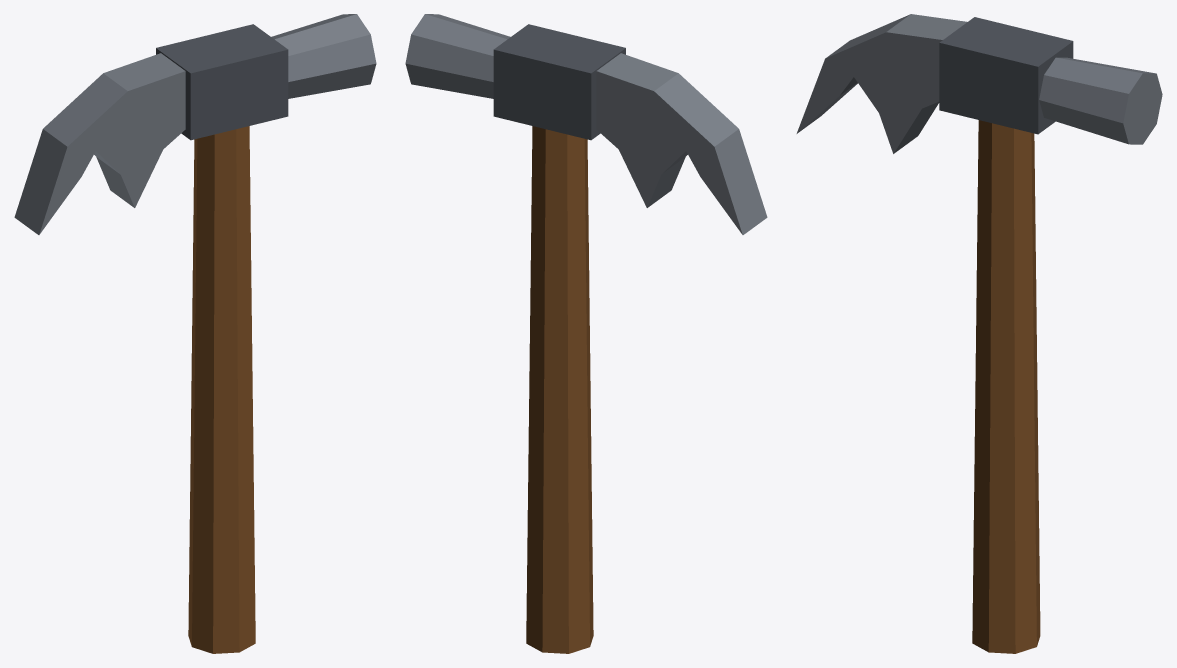
Rendered from hammer-fa3e51.glb.
3 renders of one model, left to right at view 1: azimuth 30°, elevation 25°; view 2: azimuth 150°, elevation 25°; view 3: azimuth 330°, elevation 25°, orthographic.
Visible parts, largest first — view 1: claw-hammer; view 2: claw-hammer; view 3: claw-hammer.
Boxes of the visible parts, left/top/right/bottom form: claw-hammer: left=14, top=14, right=376, bottom=653; claw-hammer: left=405, top=14, right=767, bottom=653; claw-hammer: left=796, top=14, right=1162, bottom=653.
Bounding box in the file's own units: 0.186 × 0.319 × 0.038.
